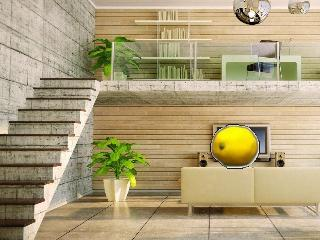lemon: (213, 128, 258, 167)
